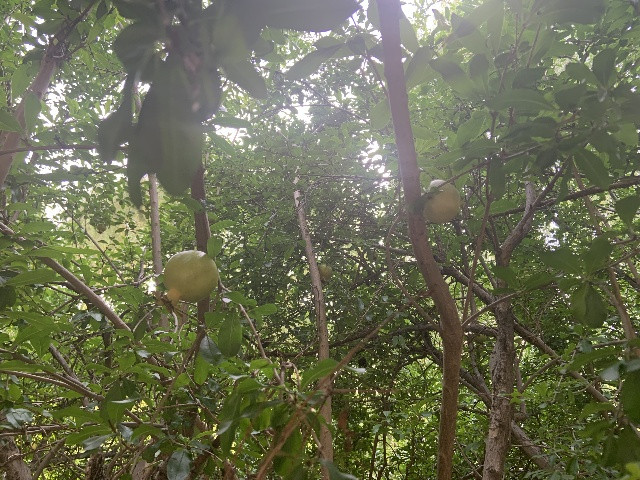mid-growth: (150, 250, 219, 318), (420, 179, 466, 224), (317, 264, 331, 283)
